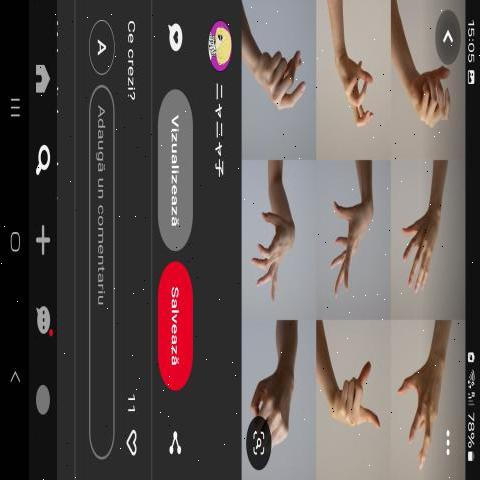Hands: (317, 168, 386, 302), (373, 343, 451, 445), (247, 174, 303, 314), (394, 183, 450, 307), (316, 356, 386, 444), (333, 47, 380, 145)
